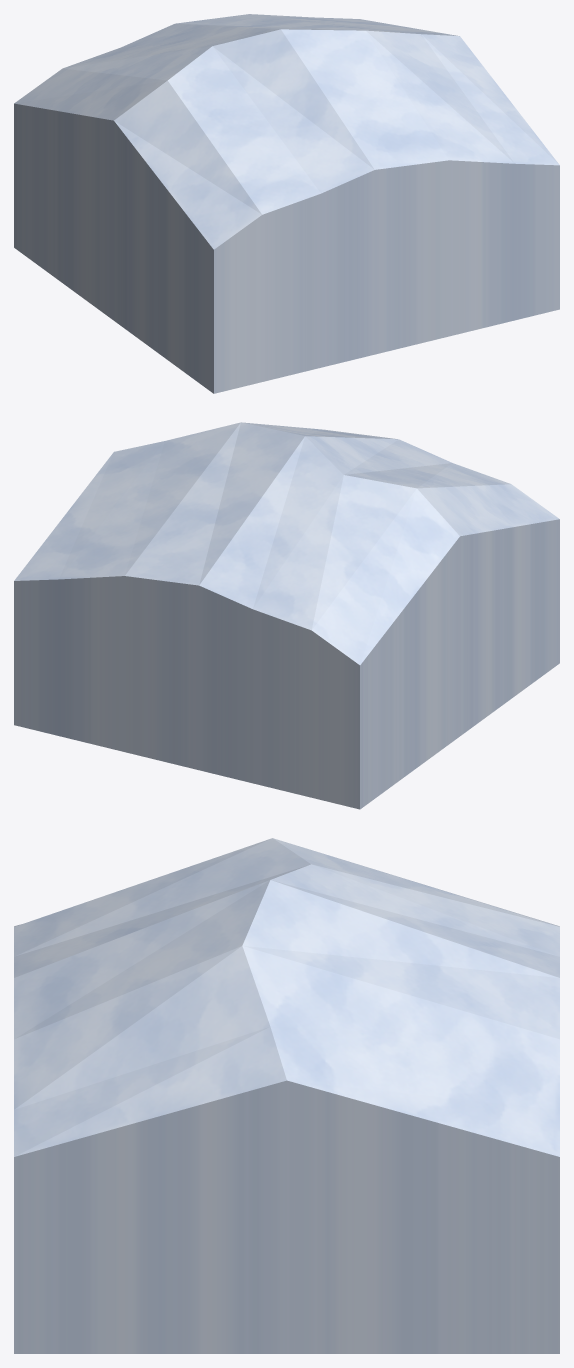
The model's file is snow_post_cap.glb.
The picture shows the model from 3 angles, top to bottom: view 1: azimuth 30°, elevation 25°; view 2: azimuth 150°, elevation 25°; view 3: azimuth 270°, elevation 25°; orthographic projection. The views are drawn at different scales.
Parts seen in each view (by area): view 1: winter_snow_post_cap; view 2: winter_snow_post_cap; view 3: winter_snow_post_cap.
Part boxes in pixels (bbox=[...]): winter_snow_post_cap: bbox=[14, 14, 559, 393]; winter_snow_post_cap: bbox=[14, 422, 559, 809]; winter_snow_post_cap: bbox=[14, 838, 559, 1353].
Bounding box in the file's own units: 0.12 × 0.085 × 0.12.
Materials: 1 (1 with a texture image).
